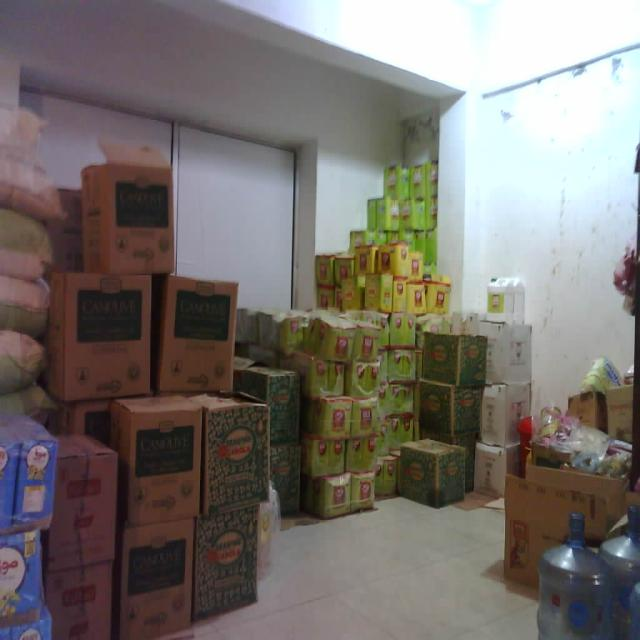box: (61, 270, 149, 400), (83, 163, 177, 273), (162, 273, 235, 397), (124, 407, 201, 522), (119, 526, 192, 636)
